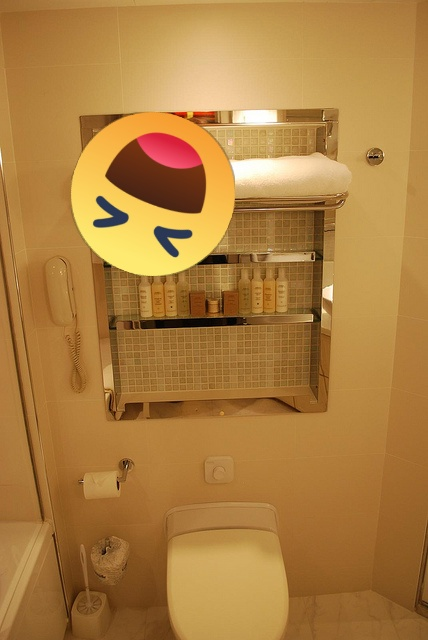haha: (71, 112, 235, 276)
